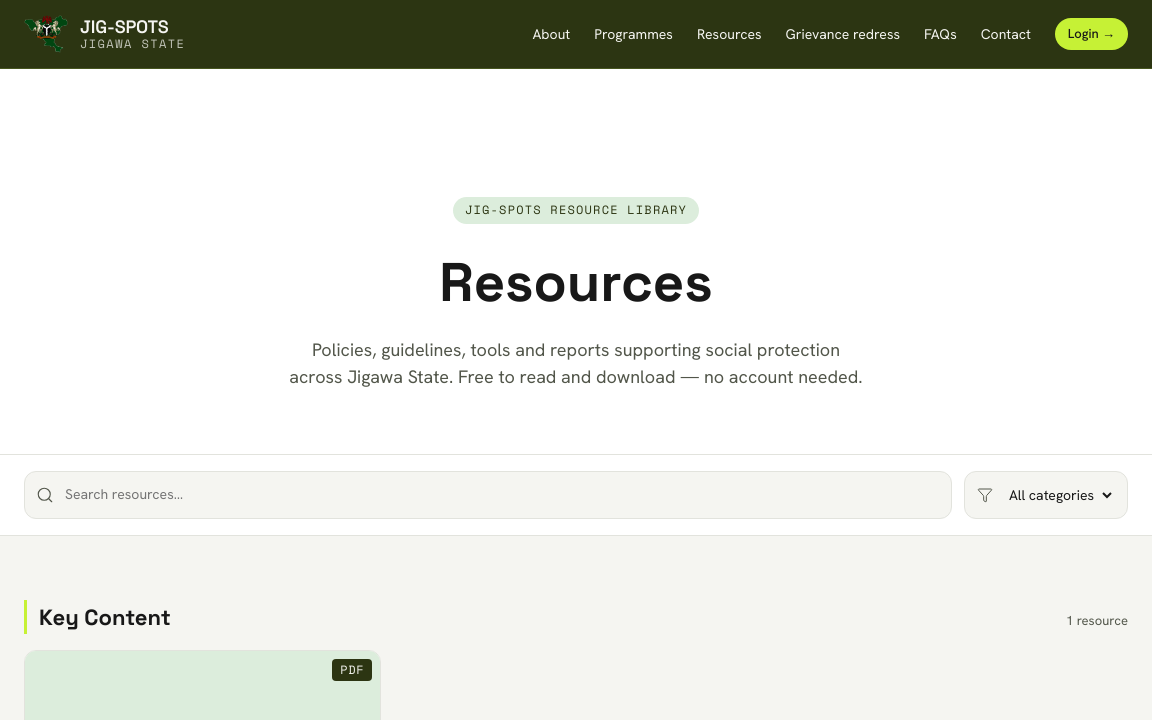
ResourcesPage › says nothing matched the filters rather than that the library is empty
The image size is (1152, 720).
Type "zzzzz" into the search field labelled "Search resources".
click(488, 495); type("zzzzz")  # box x1=24 y1=471 x2=952 y2=519
(page scrolled)
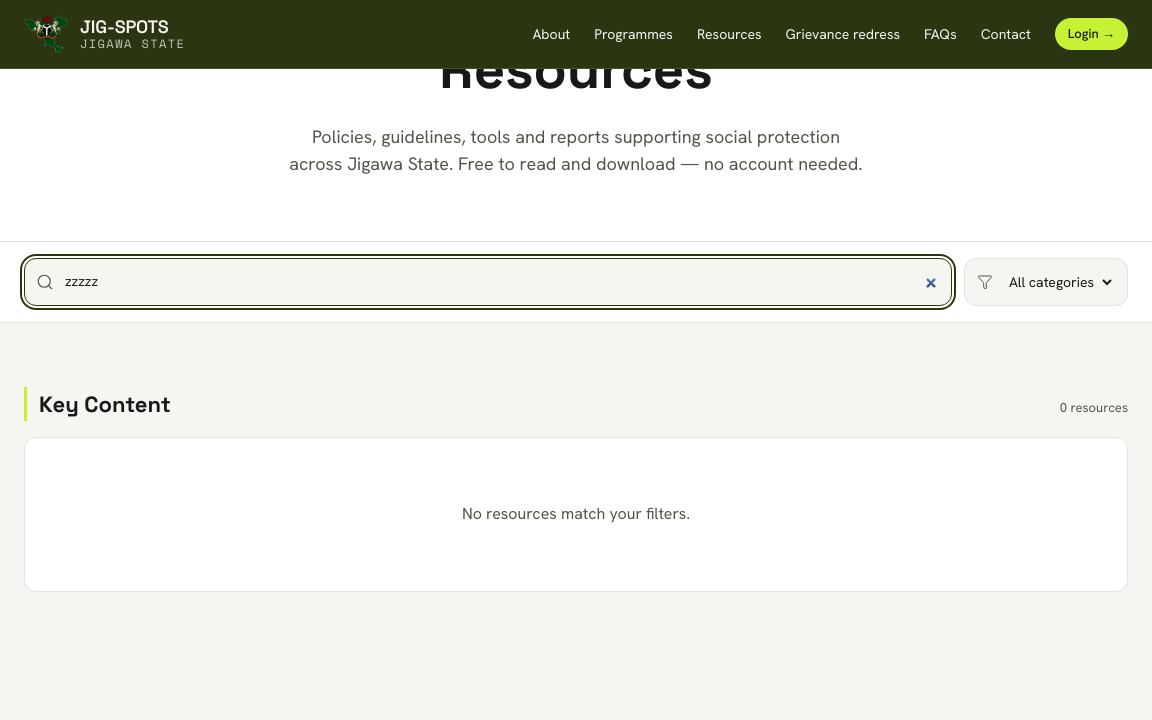
Now the text "No resources match your filters." is shown, box x1=462 y1=503 x2=690 y2=524
